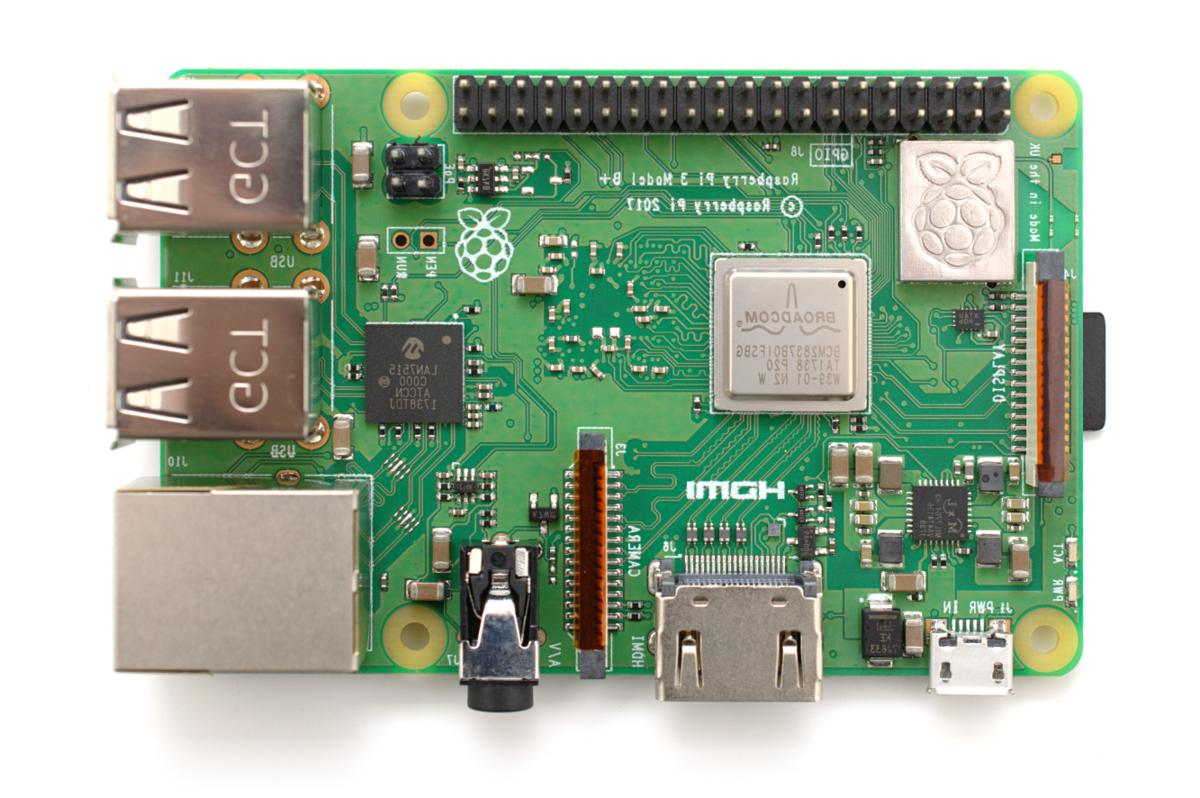audiojack: (462, 543, 541, 713)
bchi: (706, 247, 875, 419)
ethernet: (115, 487, 359, 675)
gpio: (455, 75, 1015, 136)
usb: (111, 286, 308, 441), (111, 82, 311, 229)
